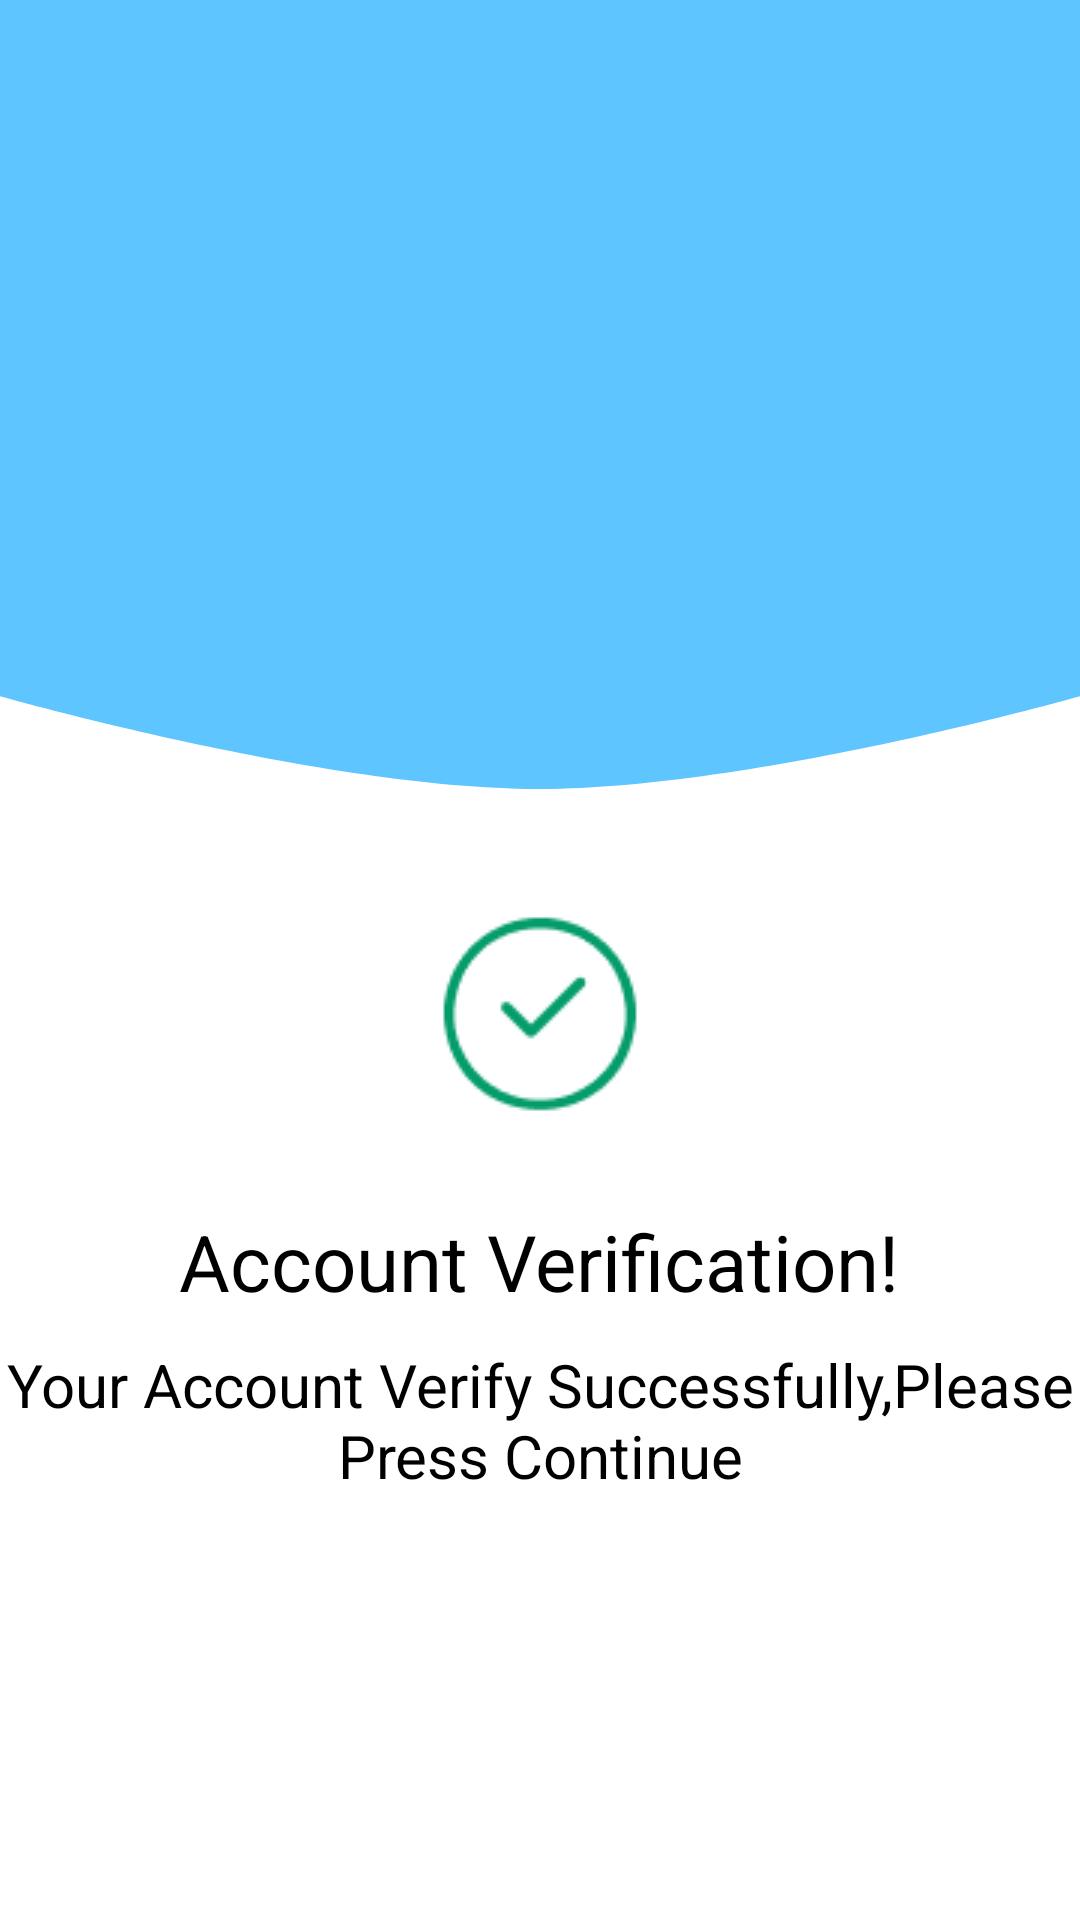

Locate icon controls on the screen. Image size 1080×1920, boxes as (x1, y1, x2, y2).
verified: (443, 917, 637, 1111)
